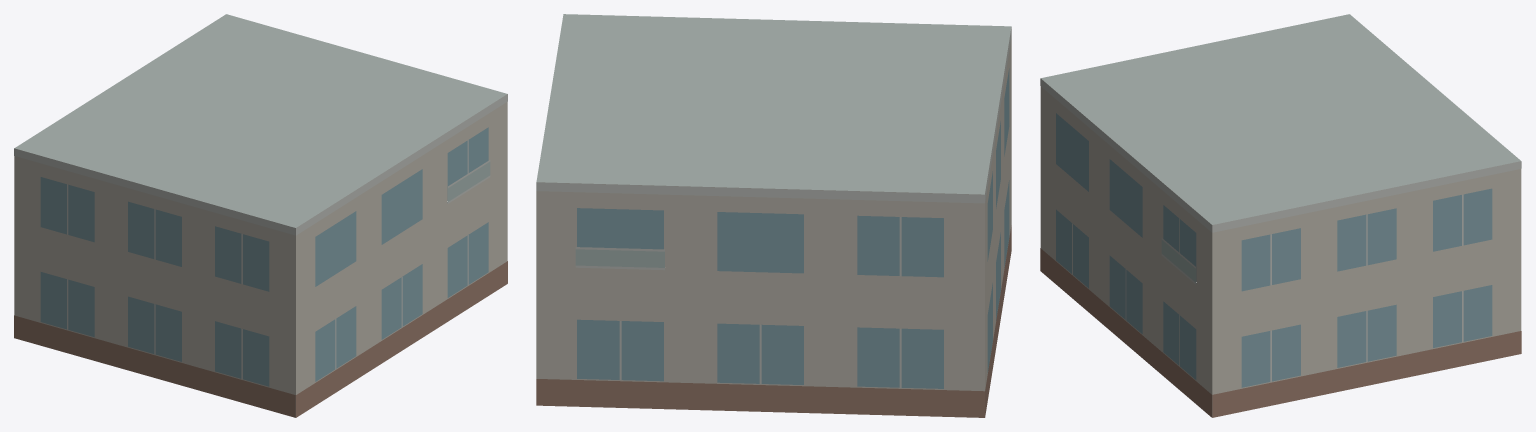
Rendered from survey-upis-32835549.glb.
3 renders of one model, left to right at view 1: azimuth 30°, elevation 25°; view 2: azimuth 150°, elevation 25°; view 3: azimuth 270°, elevation 25°, orthographic. The views are drawn at different scales.
Parts seen in each view (by area): view 1: survey-upis-32835549.tmp; view 2: survey-upis-32835549.tmp; view 3: survey-upis-32835549.tmp.
Part boxes in pixels (x1,y1,x2,y2): survey-upis-32835549.tmp: (14,14,507,417); survey-upis-32835549.tmp: (536,14,1011,417); survey-upis-32835549.tmp: (1040,14,1521,417).
Size of the model in its own units: 14.33 by 6.1 by 13.8.
